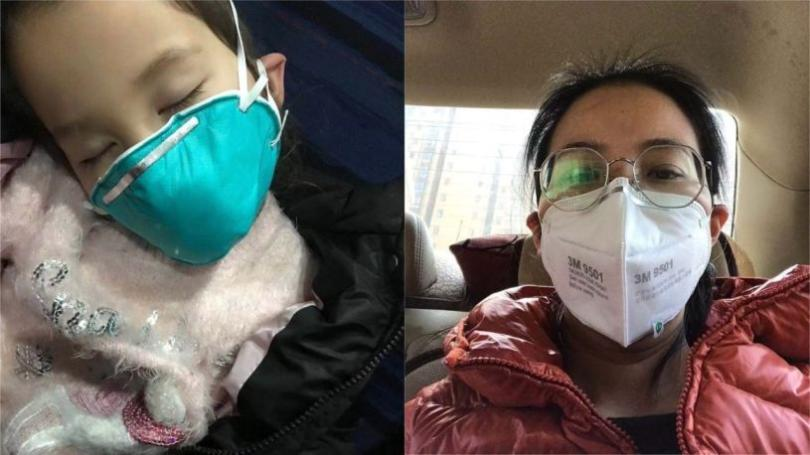n95: (84, 80, 290, 267), (526, 179, 720, 354)
